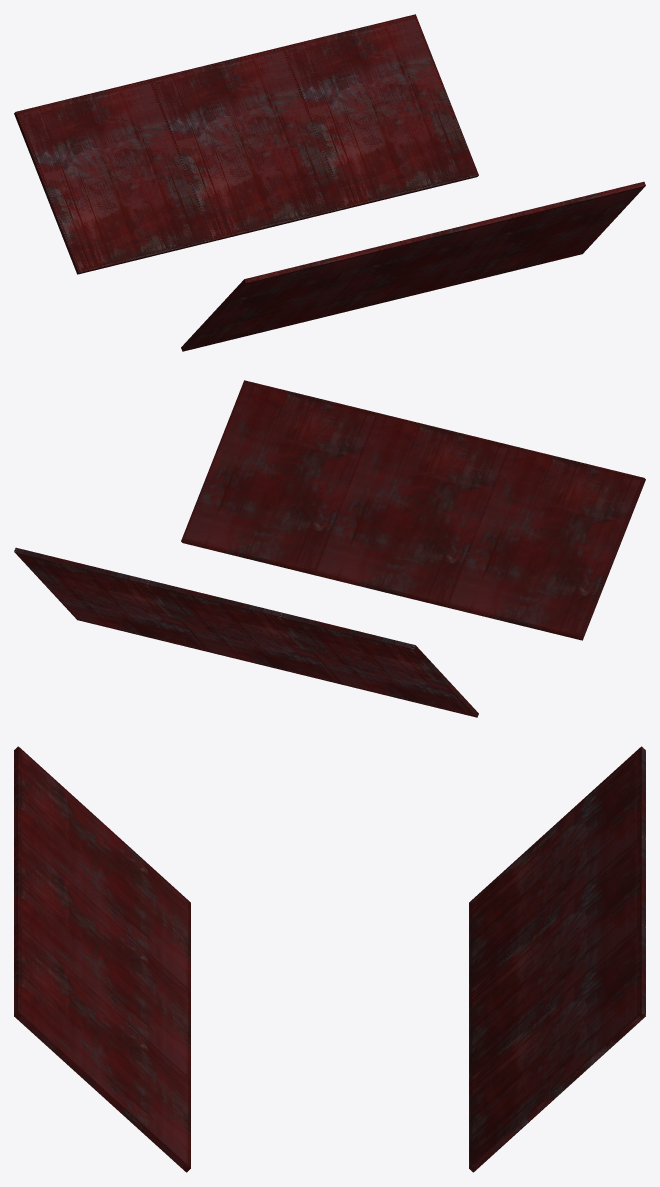
File: conveyor_sideplates_02.DAE
3 views of the same model, one above another, from view 1: azimuth 30°, elevation 25°; view 2: azimuth 150°, elevation 25°; view 3: azimuth 270°, elevation 25° (orthographic). The views are drawn at different scales.
Parts seen in each view (by area): view 1: Box023; view 2: Box023; view 3: Box023.
Part boxes in pixels (left/top/right/bottom): Box023: left=14, top=14, right=645, bottom=351; Box023: left=14, top=380, right=645, bottom=717; Box023: left=14, top=746, right=645, bottom=1172.
Size of the model in its own units: 4 by 1.12 by 4.02.
